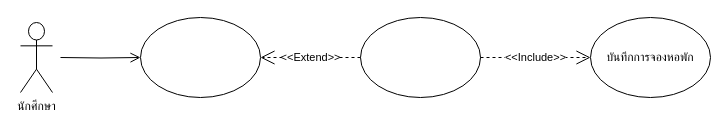
Some shapes in this 728 by 131 pixel diagram are drawn without their labels. Each missing label, with the box of its shape:
จองหอพักนักศึกษา: (360, 16, 480, 98)
เข้าสู่ระบบในฐานะนักศึกษา: (140, 16, 260, 98)
